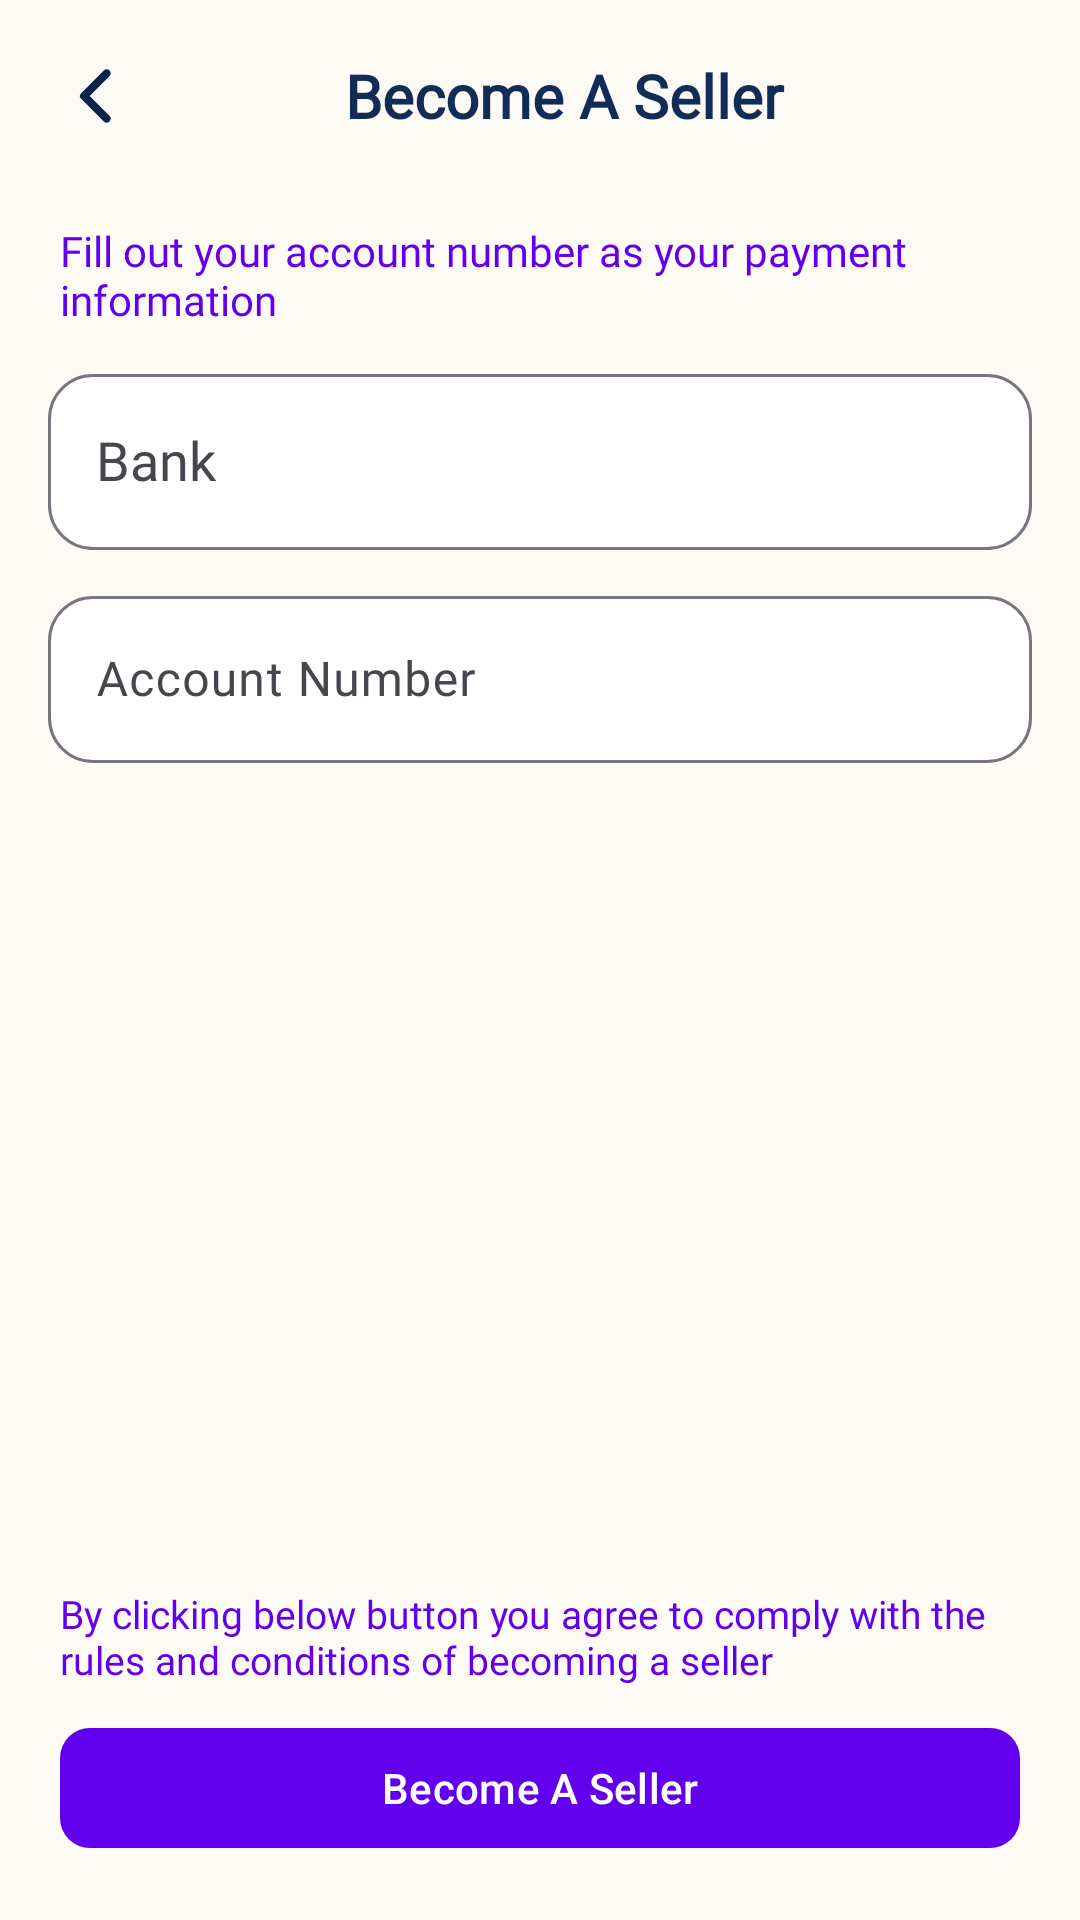

Screen size 1080 × 1920. Icon name, then its box in pixels as [x1=x1, y1=y1, x2=x2, y2=y2]:
left line: [x1=79, y1=69, x2=111, y2=123]
